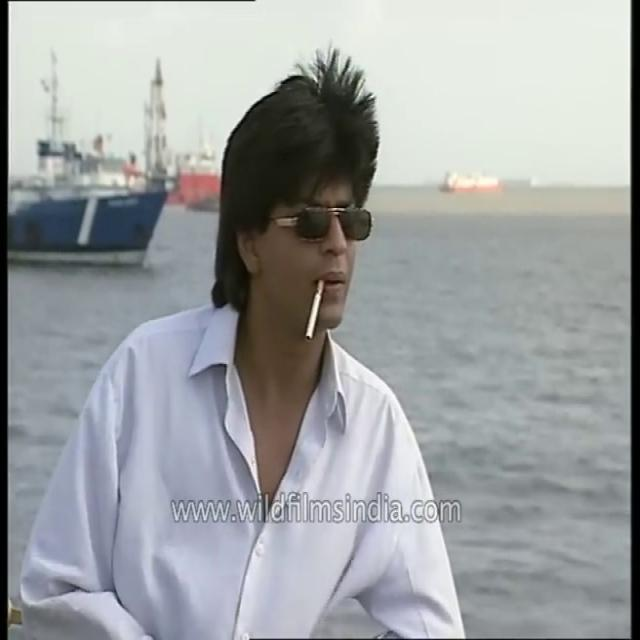Smooking: (293, 271, 331, 360)
